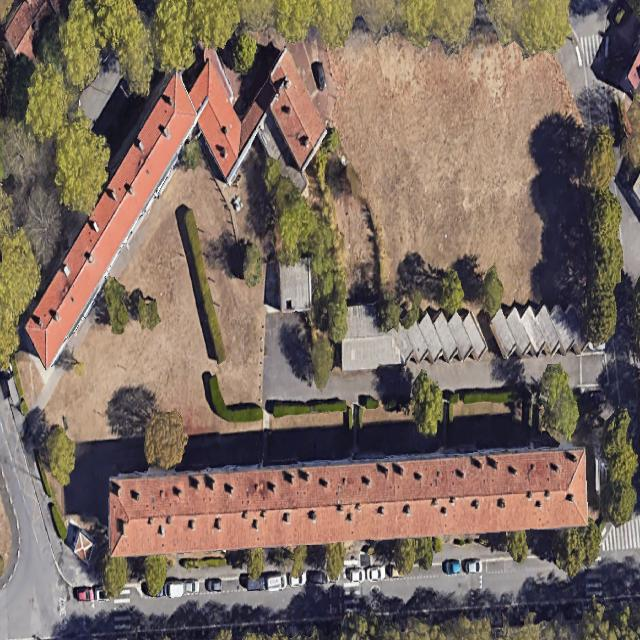immeuble: (0, 9, 352, 368), (105, 446, 590, 557)
